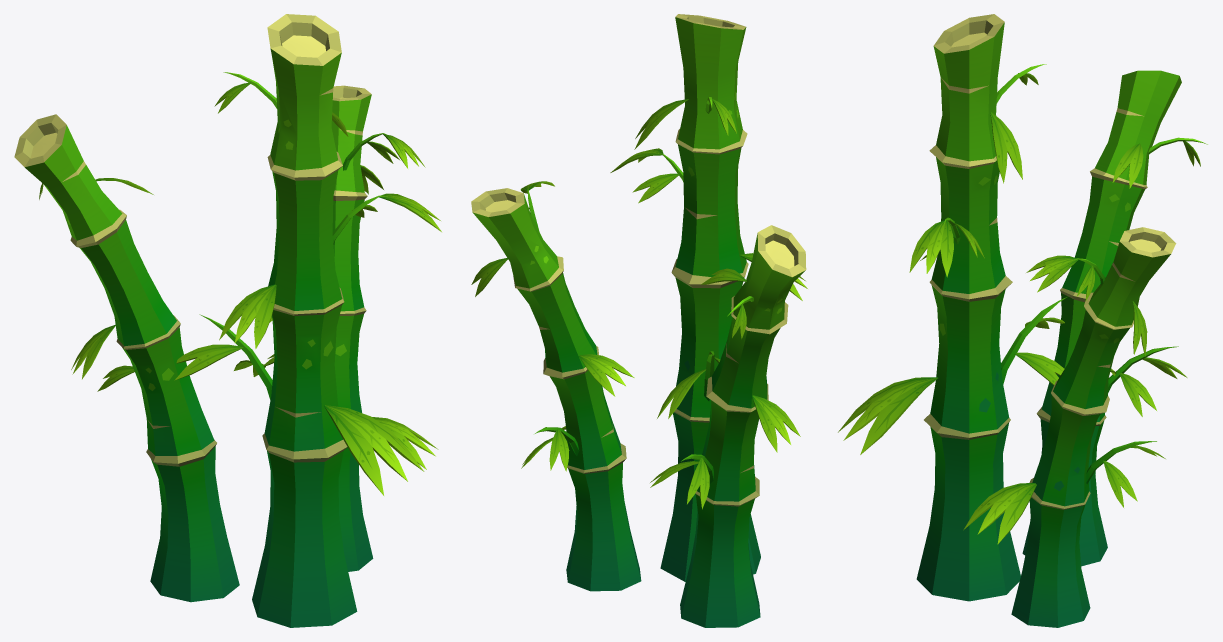
Rendered from bamboo_6.001.glb.
The picture shows the model from 3 angles, left to right: view 1: azimuth 30°, elevation 25°; view 2: azimuth 150°, elevation 25°; view 3: azimuth 270°, elevation 25°; orthographic projection. The views are drawn at different scales.
Parts seen in each view (by area): view 1: bamboo_6.001; view 2: bamboo_6.001; view 3: bamboo_6.001.
Boxes of the visible parts, x1=… form: bamboo_6.001: x1=14, y1=14, x2=441, y2=627; bamboo_6.001: x1=471, y1=14, x2=807, y2=627; bamboo_6.001: x1=838, y1=14, x2=1207, y2=627.
Bounding box in the file's own units: 2.7 × 4.2 × 2.54.
Materials: 1 (1 with a texture image).
